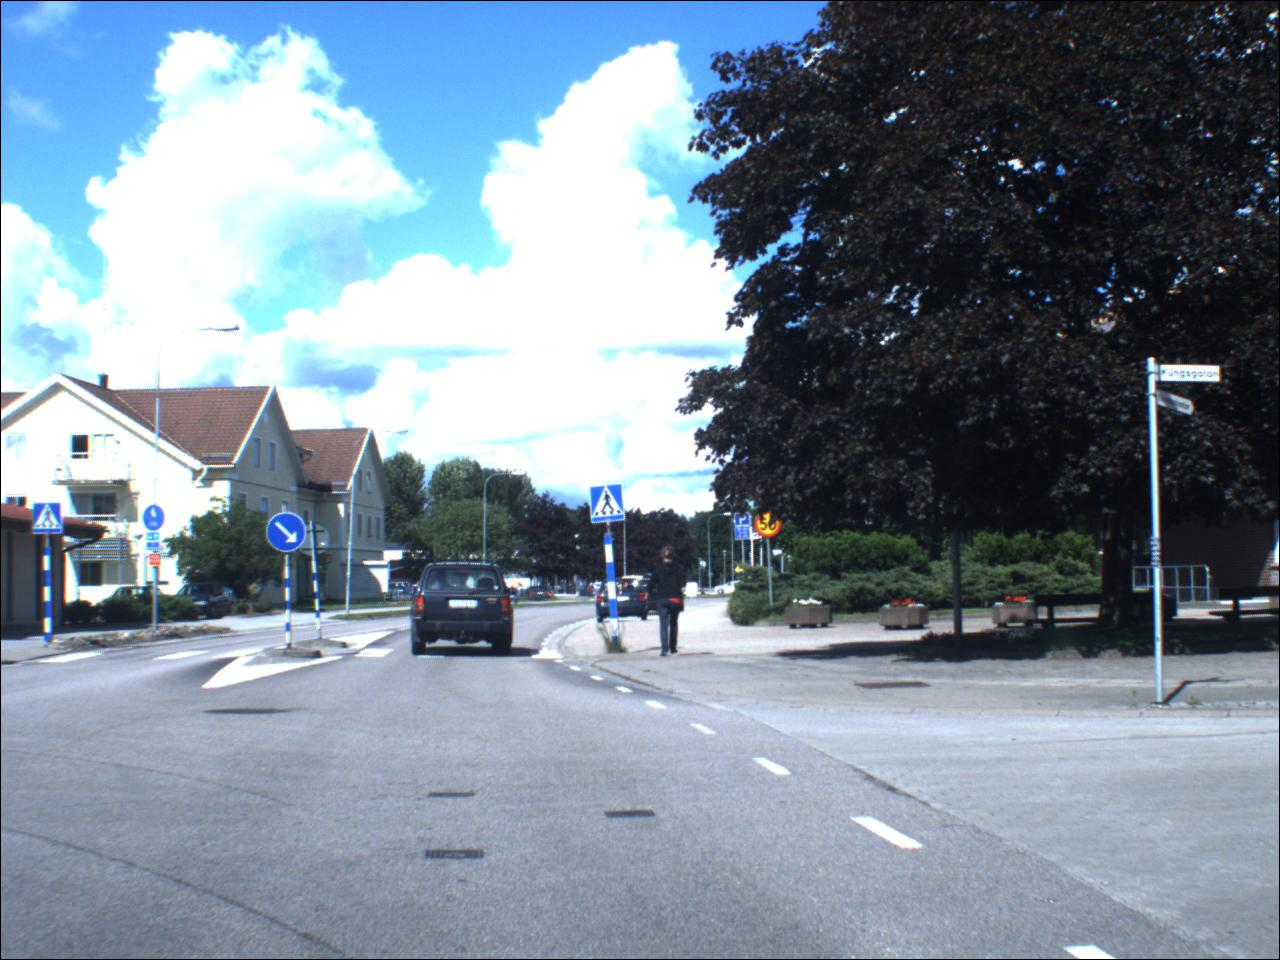50_SIGN: (754, 507, 784, 541)
PASS_RIGHT_SIDE: (268, 511, 309, 556)
PEDESTRIAN_CROSSING: (593, 486, 629, 525), (33, 504, 67, 537)
